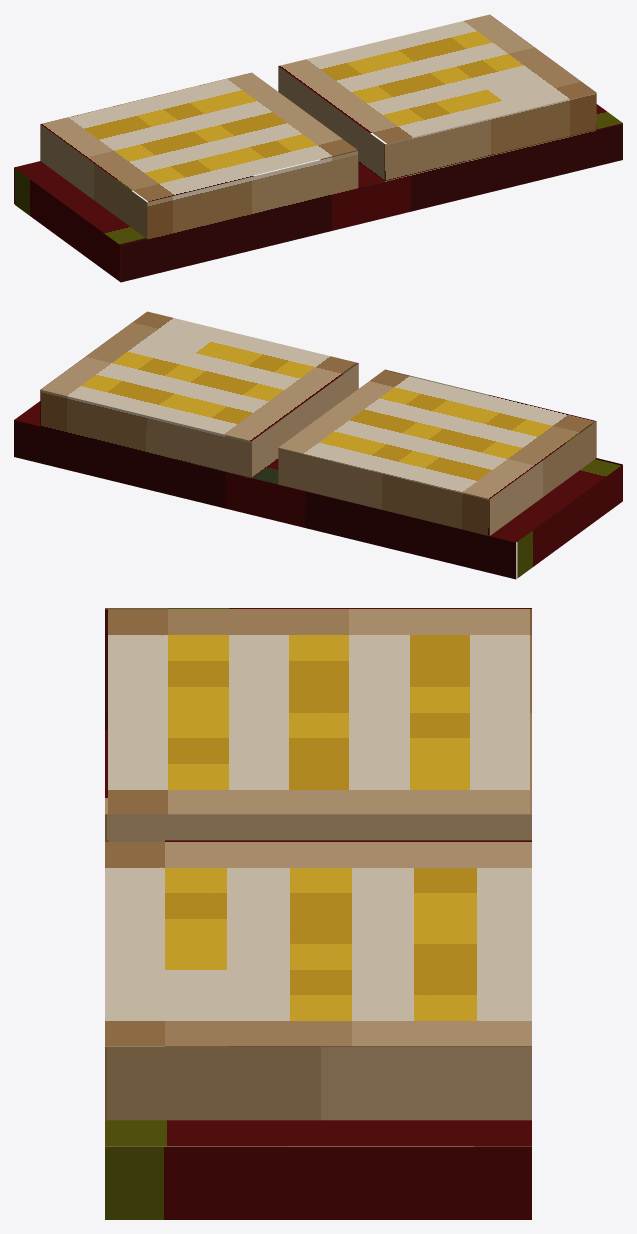
File: book_0x282_18.obj
The picture shows the model from 3 angles, top to bottom: view 1: azimuth 30°, elevation 25°; view 2: azimuth 150°, elevation 25°; view 3: azimuth 270°, elevation 25°; orthographic projection. The views are drawn at different scales.
Visible parts, largest first — view 1: Cube; view 2: Cube; view 3: Cube.
Part boxes in pixels (x1,y1,x2,y2): Cube: (14,14,622,282); Cube: (14,311,622,579); Cube: (105,608,531,1219).
Size of the model in its own units: 1.19 by 0.1667 by 0.4375.
1 material, 1 textured.
